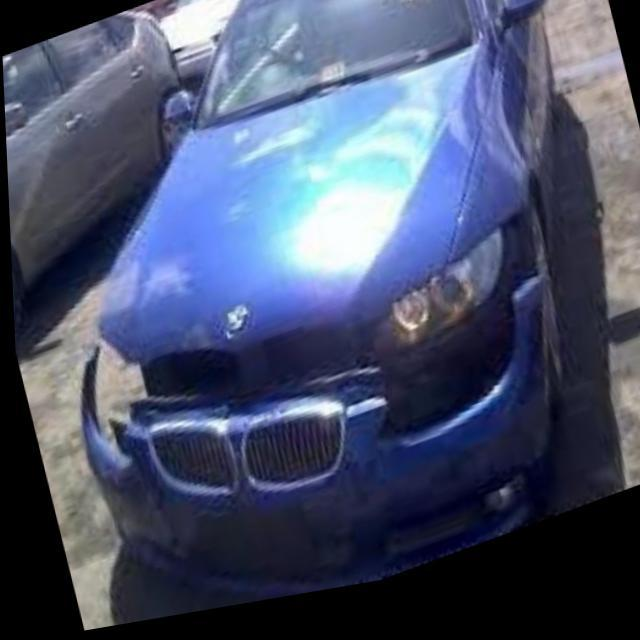dent: (105, 497, 178, 573)
dislocated part: (374, 278, 544, 436)
lamp broken: (84, 344, 140, 455)
